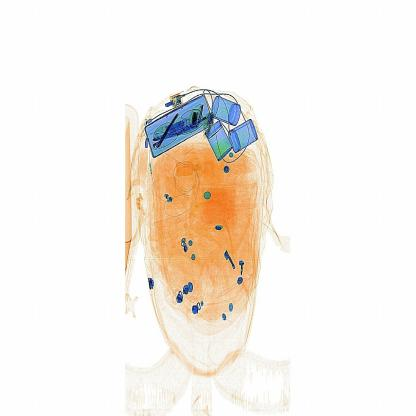knife: (155, 102, 188, 154)
